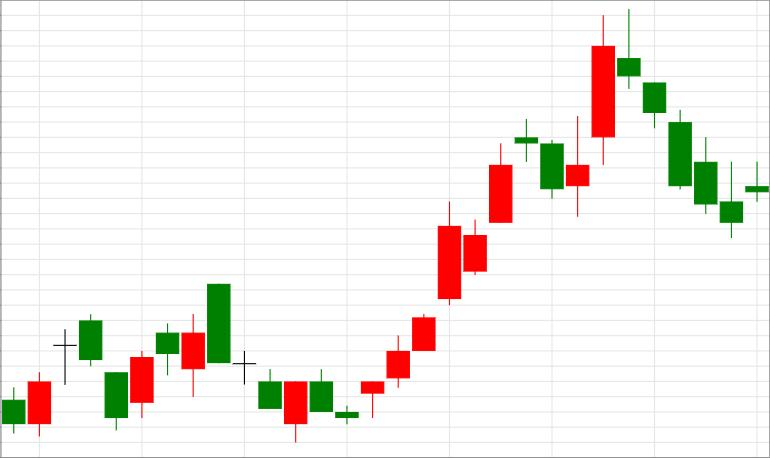evening_star_fall: (361, 119, 564, 418)
